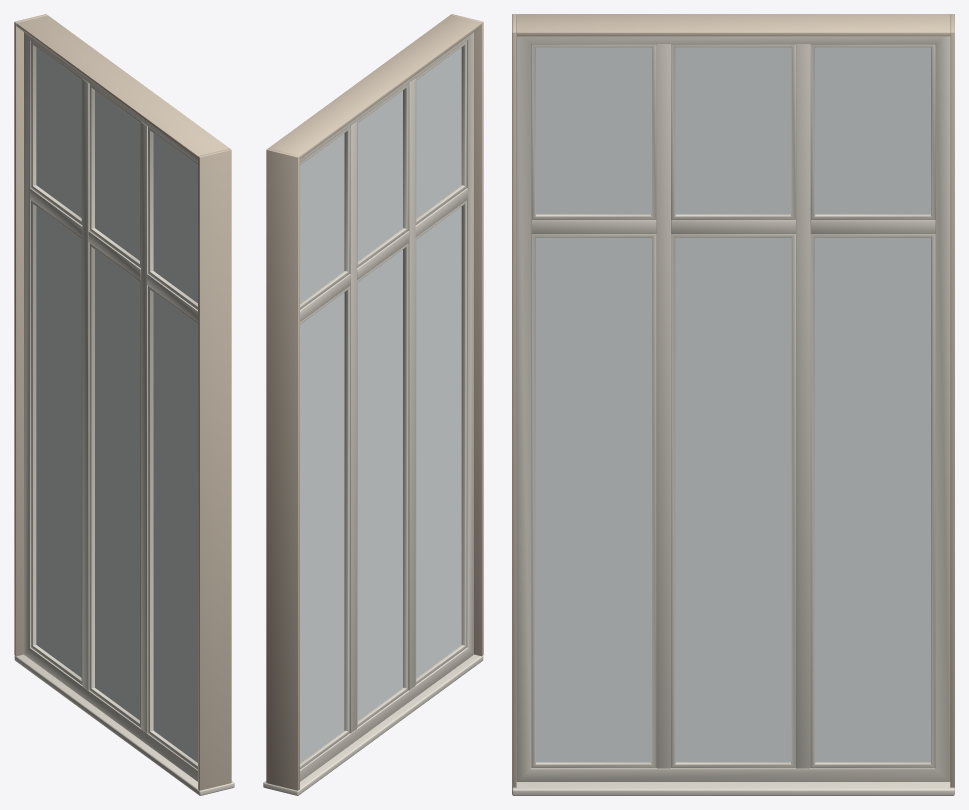
The model's file is window.fbx.
3 views of the same model, side by side, from view 1: azimuth 30°, elevation 25°; view 2: azimuth 150°, elevation 25°; view 3: azimuth 270°, elevation 25° (orthographic). The views are drawn at different scales.
Visible parts, largest first — view 1: window; view 2: window; view 3: window.
Part boxes in pixels (left/top/right/bottom): window: left=14, top=14, right=234, bottom=795; window: left=263, top=14, right=483, bottom=795; window: left=512, top=14, right=954, bottom=795.
Bounding box in the file's own units: 0.1655 × 1.5 × 2.85.
